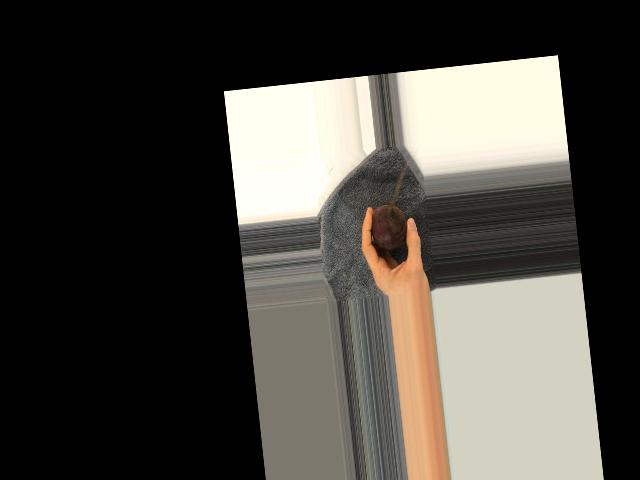beet: (369, 203, 409, 252)
